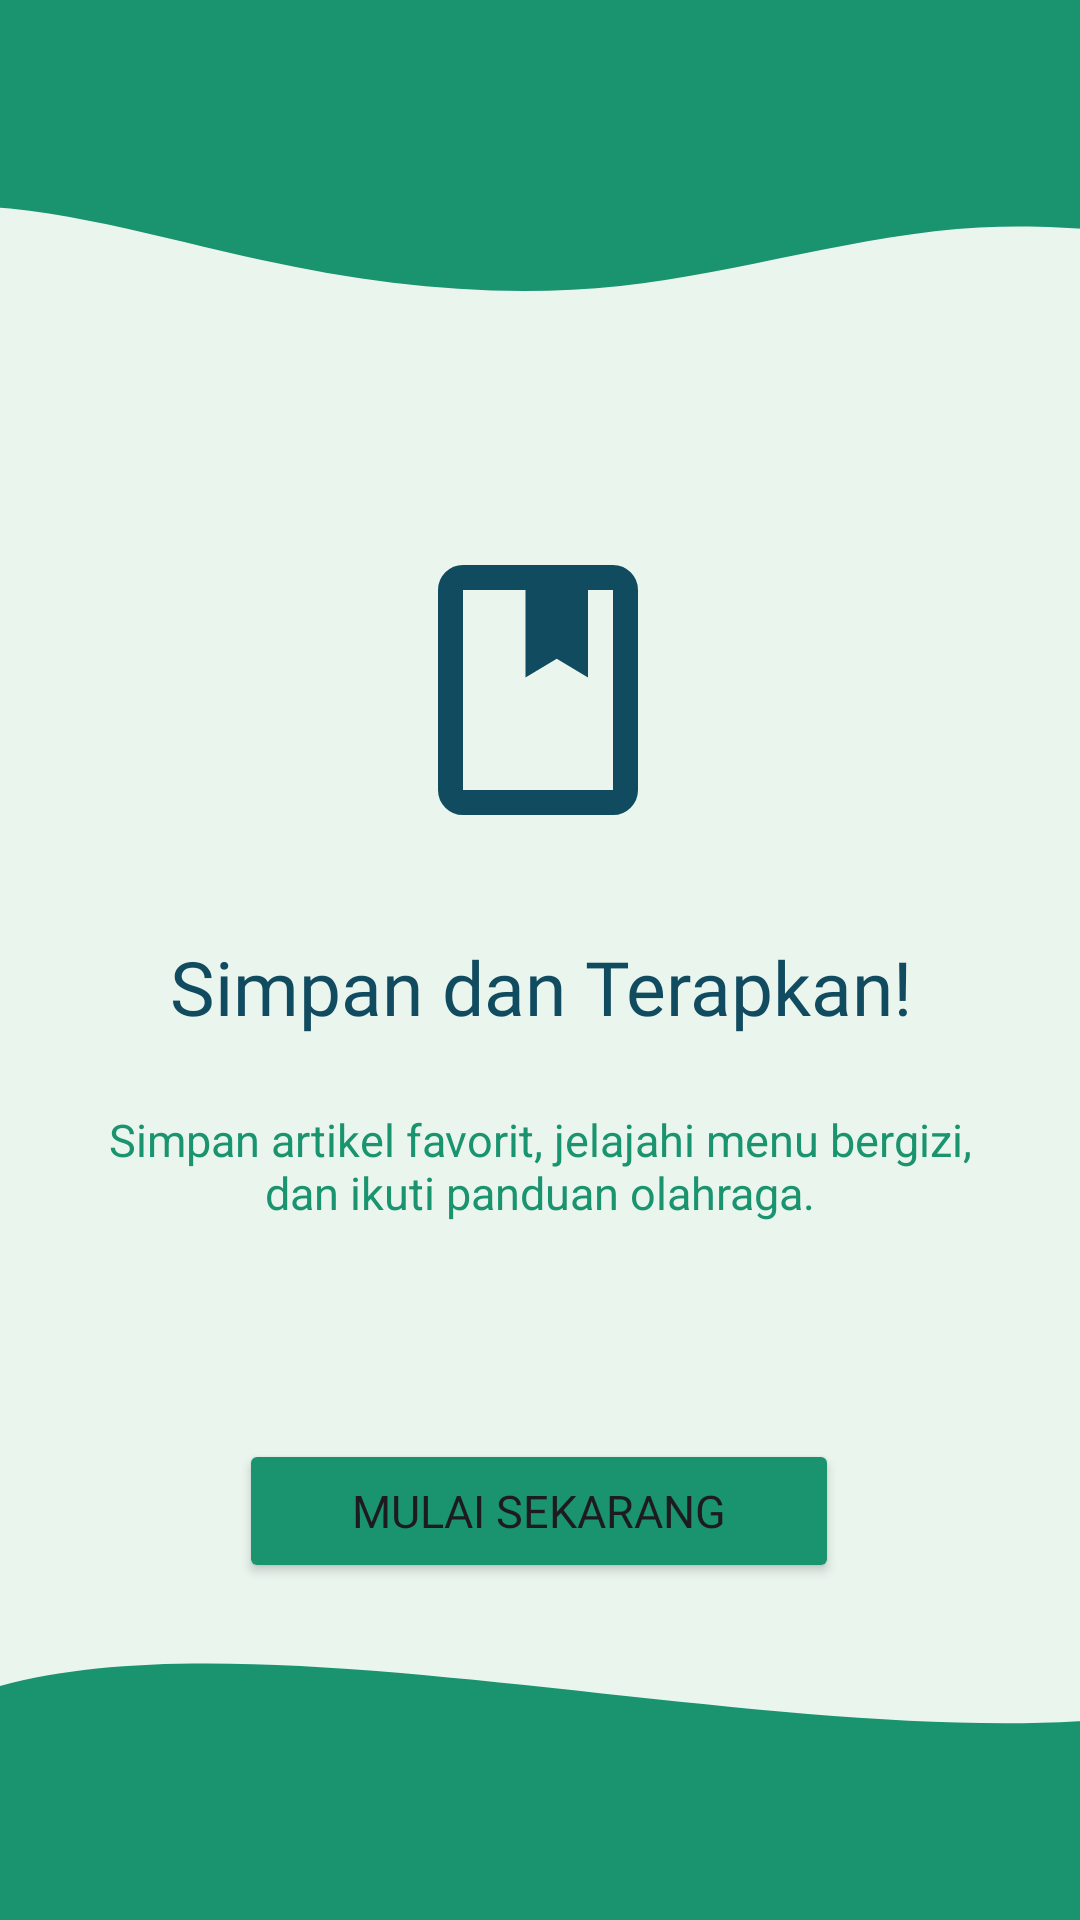

Point at icon controls on the screen. Image size 1080w x 1920h, points as (x=x, y=y).
book: (x=538, y=690)
